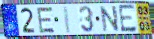2: (20, 7, 36, 34)
3: (78, 5, 96, 34)
E: (118, 4, 138, 34), (36, 6, 57, 34)
I: (62, 5, 72, 34)
N: (98, 5, 120, 33)
